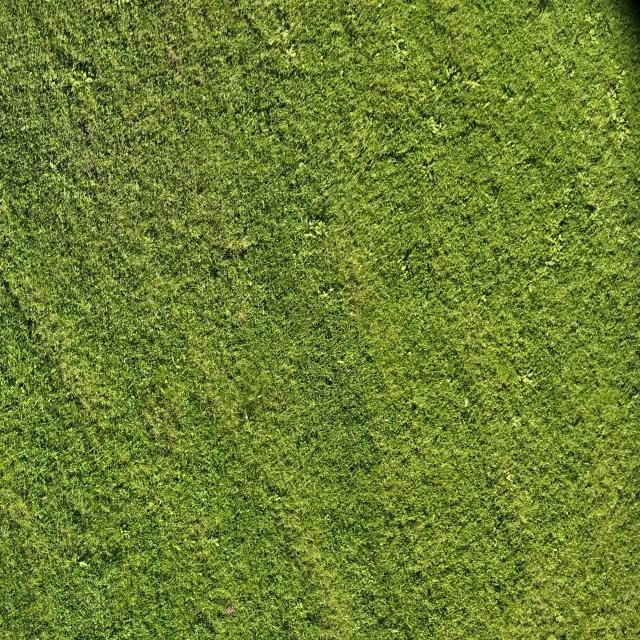rumex: (314, 375, 397, 508), (104, 189, 188, 288), (45, 324, 112, 422), (133, 356, 191, 449), (422, 60, 476, 140), (323, 235, 371, 304), (266, 12, 316, 75), (424, 6, 464, 54), (604, 81, 631, 135), (68, 63, 96, 102), (267, 27, 294, 60), (46, 156, 72, 188), (61, 46, 92, 70), (429, 76, 449, 110), (546, 239, 567, 265), (430, 16, 451, 40), (5, 286, 23, 314), (373, 148, 400, 166), (438, 65, 458, 86), (514, 368, 534, 389), (111, 525, 130, 547), (343, 5, 360, 29), (232, 236, 254, 254), (70, 507, 86, 530), (271, 7, 289, 27), (500, 82, 518, 101), (523, 152, 542, 168), (393, 45, 409, 63), (422, 160, 436, 180), (41, 70, 56, 88), (516, 255, 532, 270), (553, 213, 568, 228), (568, 412, 583, 427), (52, 35, 66, 51), (429, 120, 442, 136), (165, 355, 178, 371), (221, 246, 234, 262), (460, 395, 472, 412), (304, 231, 318, 245), (329, 23, 343, 37), (394, 38, 407, 53), (576, 171, 586, 190), (582, 13, 595, 27), (562, 184, 574, 199), (70, 79, 82, 94), (591, 200, 602, 216), (423, 153, 435, 167), (49, 80, 60, 95), (228, 104, 238, 120), (402, 246, 412, 262), (267, 34, 279, 47), (590, 32, 601, 46), (317, 290, 332, 300), (152, 408, 162, 423), (225, 241, 236, 254), (280, 29, 290, 43), (3, 279, 12, 294), (631, 176, 640, 191), (370, 48, 381, 60), (466, 78, 478, 89), (510, 417, 522, 428), (546, 232, 558, 243), (294, 154, 305, 166), (567, 321, 578, 333), (294, 604, 304, 617), (603, 154, 613, 167), (609, 108, 618, 122), (158, 386, 168, 398), (346, 149, 358, 159), (366, 158, 376, 170), (519, 512, 529, 524), (425, 261, 433, 276), (26, 317, 34, 332), (238, 247, 247, 260), (589, 210, 599, 221), (314, 226, 324, 237), (446, 377, 456, 388), (506, 472, 516, 483), (616, 73, 626, 84), (548, 219, 559, 229), (166, 44, 175, 56), (516, 369, 524, 382), (87, 114, 95, 127), (296, 221, 306, 231), (368, 256, 378, 266), (265, 497, 275, 507), (448, 4, 458, 14), (48, 160, 57, 171), (365, 353, 374, 364), (103, 105, 110, 119), (390, 24, 398, 36), (152, 427, 160, 439), (501, 92, 510, 102), (119, 526, 128, 536), (209, 537, 219, 546), (546, 258, 556, 267), (480, 295, 489, 305), (127, 23, 135, 34), (588, 28, 596, 39), (527, 285, 535, 296), (600, 428, 608, 439), (335, 358, 346, 366), (578, 131, 586, 142), (615, 80, 622, 92), (62, 561, 71, 570), (568, 69, 576, 79), (78, 560, 88, 568), (555, 614, 563, 624), (553, 200, 561, 210), (411, 398, 418, 409), (243, 264, 250, 275), (430, 84, 438, 93), (242, 224, 248, 236), (400, 262, 407, 272), (61, 363, 68, 373), (326, 286, 334, 294), (353, 238, 359, 248), (293, 260, 298, 272), (551, 548, 558, 556), (339, 69, 345, 78), (316, 288, 322, 296), (235, 558, 241, 566), (245, 414, 249, 423)
